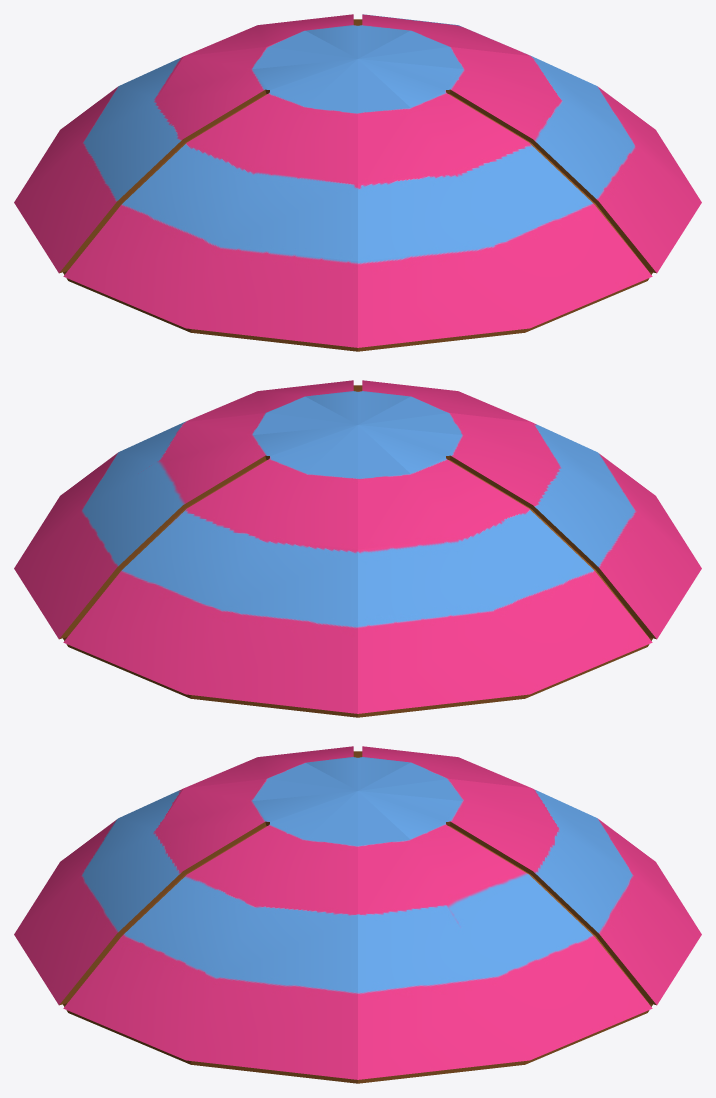
File: OBS0110009.fbx
The picture shows the model from 3 angles, top to bottom: view 1: azimuth 30°, elevation 25°; view 2: azimuth 150°, elevation 25°; view 3: azimuth 270°, elevation 25°; orthographic projection.
Visible parts, largest first — view 1: smOBS0110009; view 2: smOBS0110009; view 3: smOBS0110009.
Part boxes in pixels (box(x1,y1,x2,y2)): smOBS0110009: box(14, 14, 701, 351); smOBS0110009: box(14, 380, 701, 717); smOBS0110009: box(14, 746, 701, 1083).
Size of the model in its own units: 369 by 127 by 369.
1 material, 1 textured.
